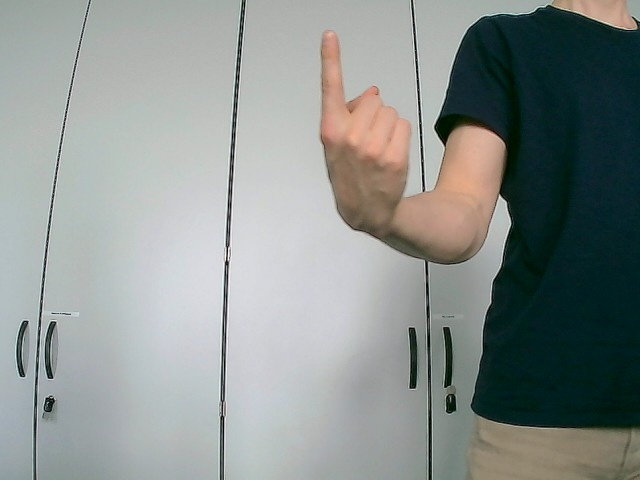up: (318, 29, 412, 237)
